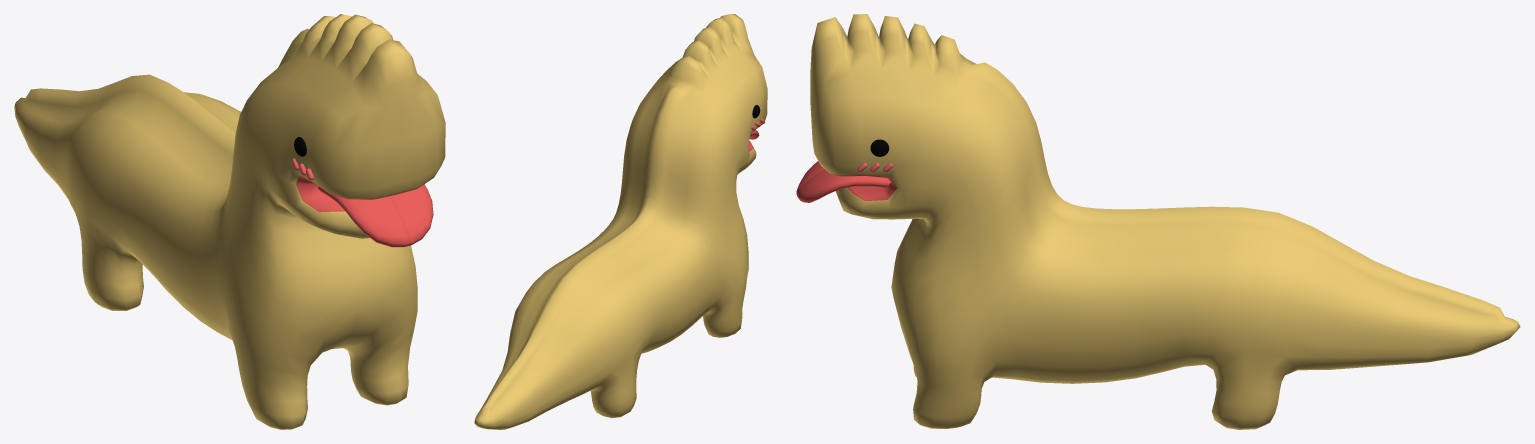
Rendered from uploads_files_3067102_Hera.fbx.
The picture shows the model from 3 angles, left to right: view 1: azimuth 30°, elevation 25°; view 2: azimuth 150°, elevation 25°; view 3: azimuth 270°, elevation 25°; orthographic projection. The views are drawn at different scales.
Visible parts, largest first — view 1: Char_Hera; view 2: Char_Hera; view 3: Char_Hera.
Boxes of the visible parts, x1,y1,x2,y2 form: Char_Hera: (14,14,445,429); Char_Hera: (474,14,767,429); Char_Hera: (796,14,1520,429).
Bounding box in the file's own units: 160 × 376 × 641.
